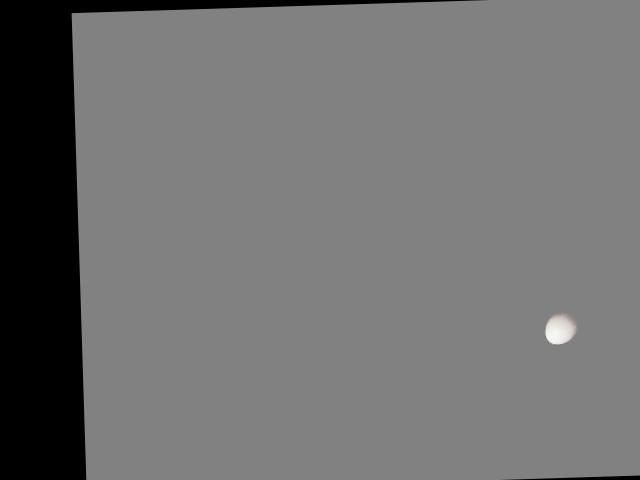egg: (545, 311, 579, 344)
